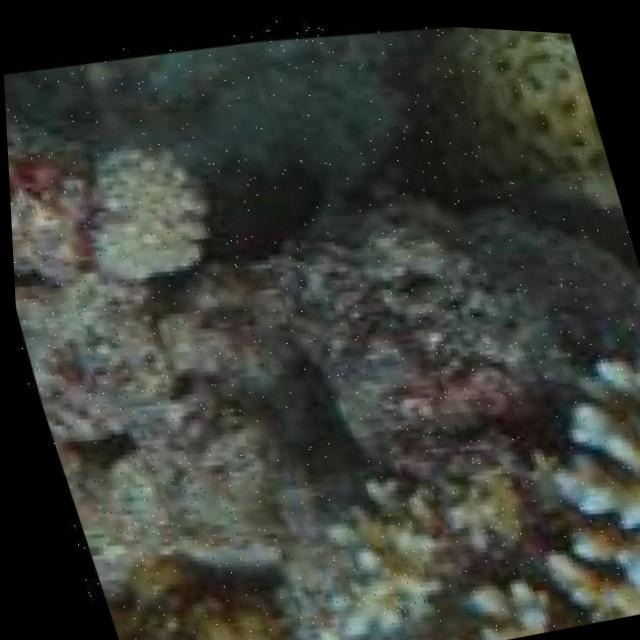Healthy Coral: (317, 317, 640, 640), (397, 18, 622, 244)
